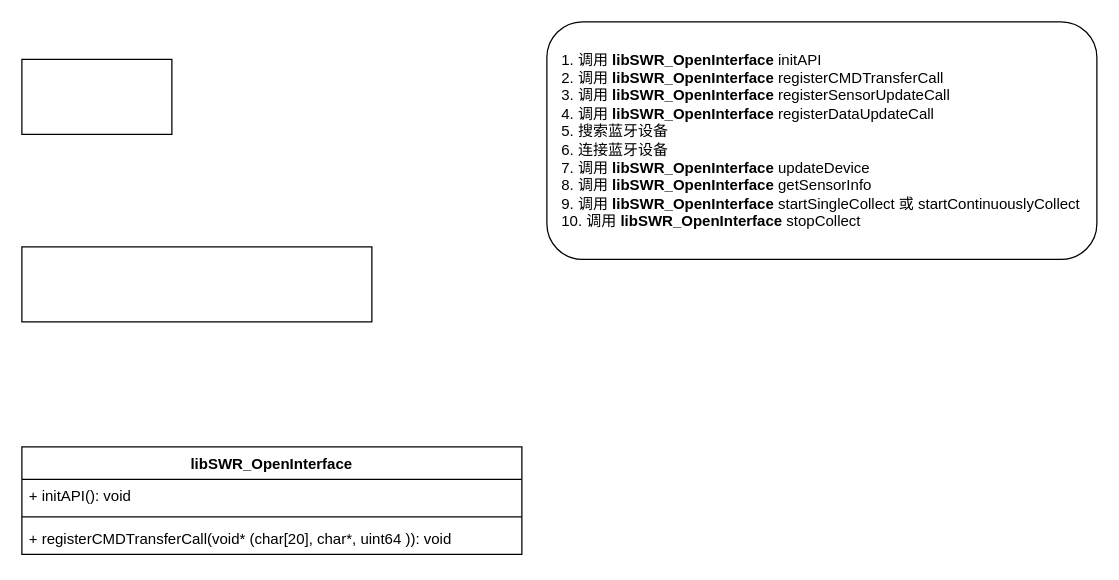
This 1119x580 diagram has some shape labels left out. The shapes that lost their labels are listed below. From the top down, each one's box as (x1, y1, x2, y2) in pixels, then its label:
(21, 58, 172, 134): CordovaActivity
(21, 246, 372, 322): cordova bluetoothle plugin
